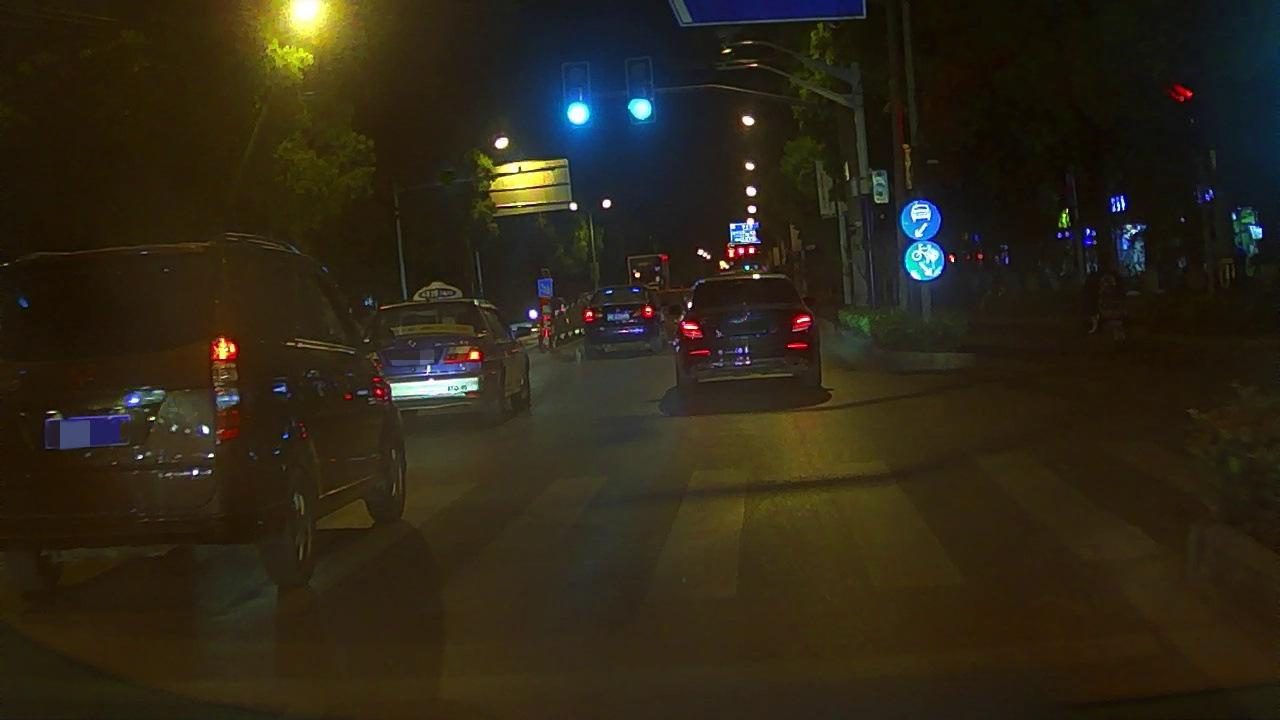traffic_light: (628, 60, 655, 122), (565, 64, 591, 127)
